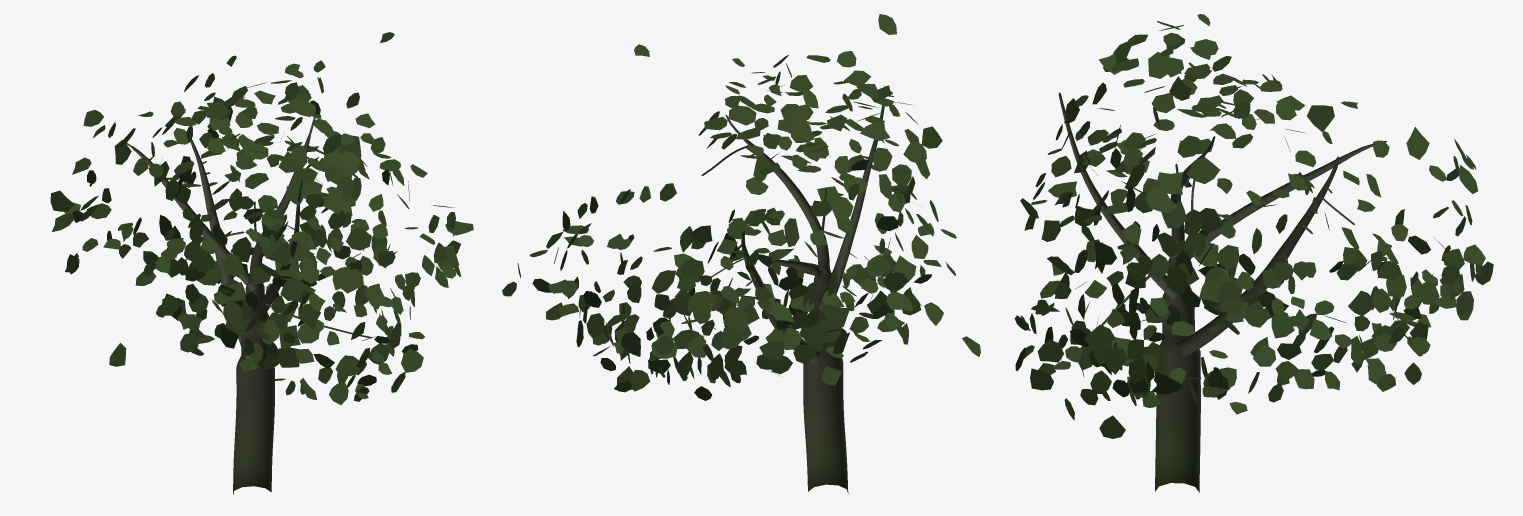
Rendered from SM_TreeFar_sycamore_4.glb.
3 renders of one model, left to right at view 1: azimuth 30°, elevation 25°; view 2: azimuth 150°, elevation 25°; view 3: azimuth 270°, elevation 25°, orthographic. The views are drawn at different scales.
Parts seen in each view (by area): view 1: SM_TreeFar_sycamore_4; view 2: SM_TreeFar_sycamore_4; view 3: SM_TreeFar_sycamore_4.
Part boxes in pixels (x1=…): SM_TreeFar_sycamore_4: x1=50, y1=32, x2=473, y2=494; SM_TreeFar_sycamore_4: x1=502, y1=14, x2=980, y2=493; SM_TreeFar_sycamore_4: x1=1014, y1=14, x2=1493, y2=492.
Bounding box in the file's own units: 19.7 × 20.62 × 19.69.
